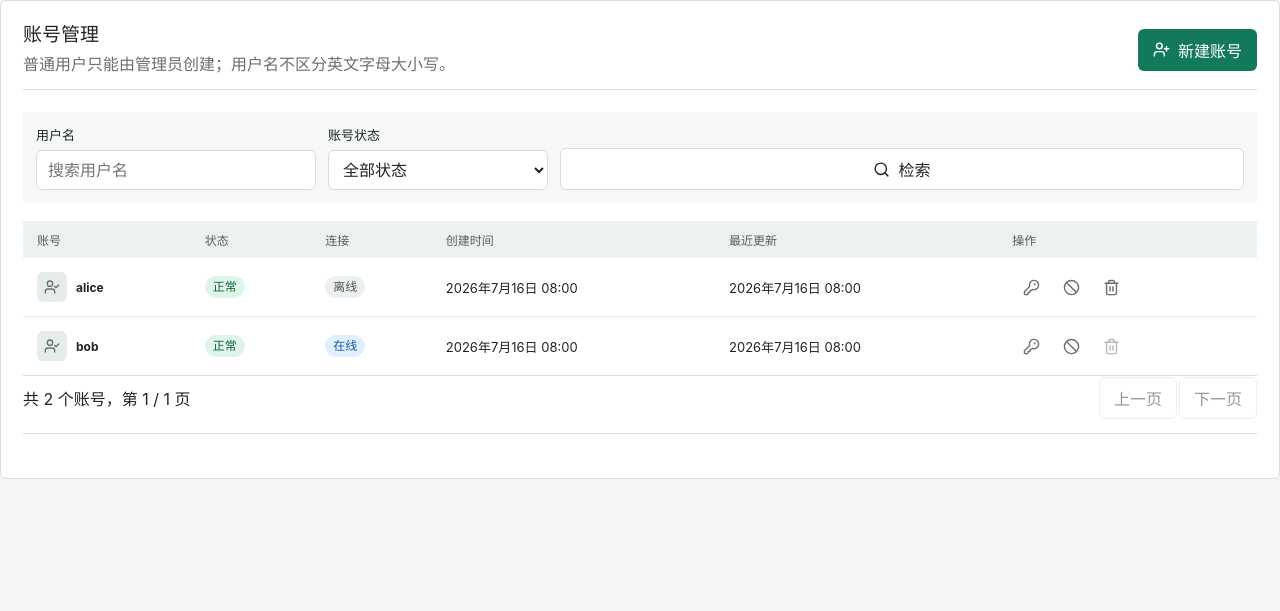
Test: administrator pages › loads accounts, prevents online deletion and creates an account through the API
Check: the text "alice" is shown, box [76,280,104,295]
Check: the button named "账号在线，不能删除" is disabled, box [1092,328,1130,366]
Click the button "新建账号".
click(1198, 50)  # box [1138,29,1257,71]
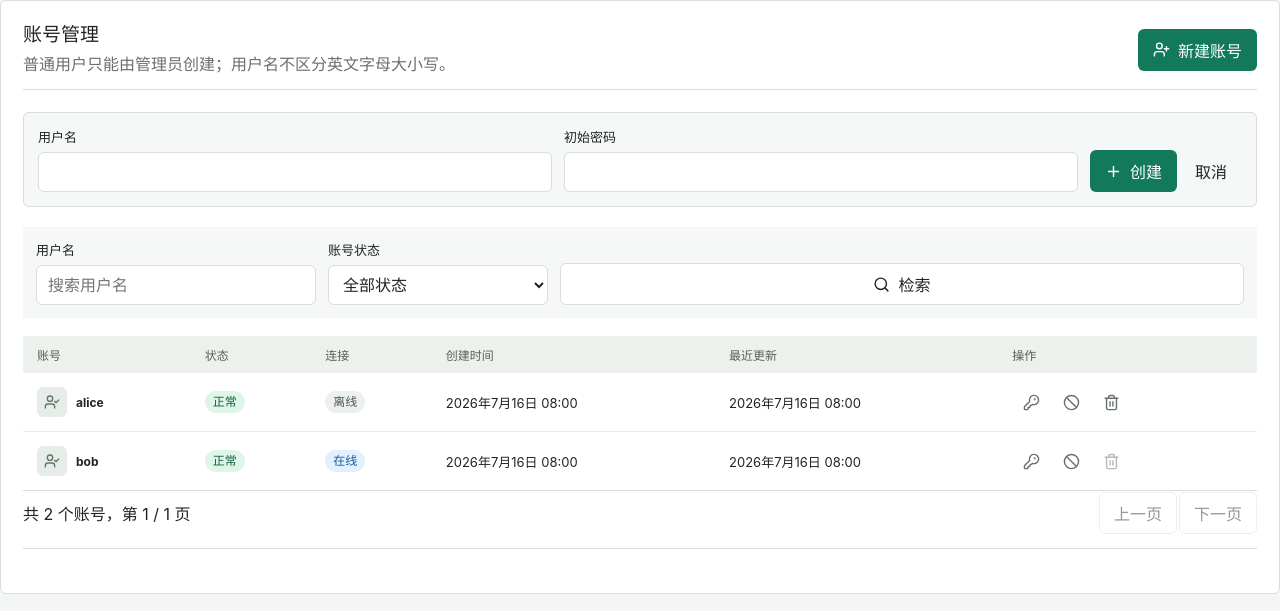
Check: the form labelled "初始密码" is shown, box [23,112,1257,208]
Type "new_user" into the field labelled "用户名" below "初始密码".
click(295, 172); type("new_user")  # box [38,152,552,192]
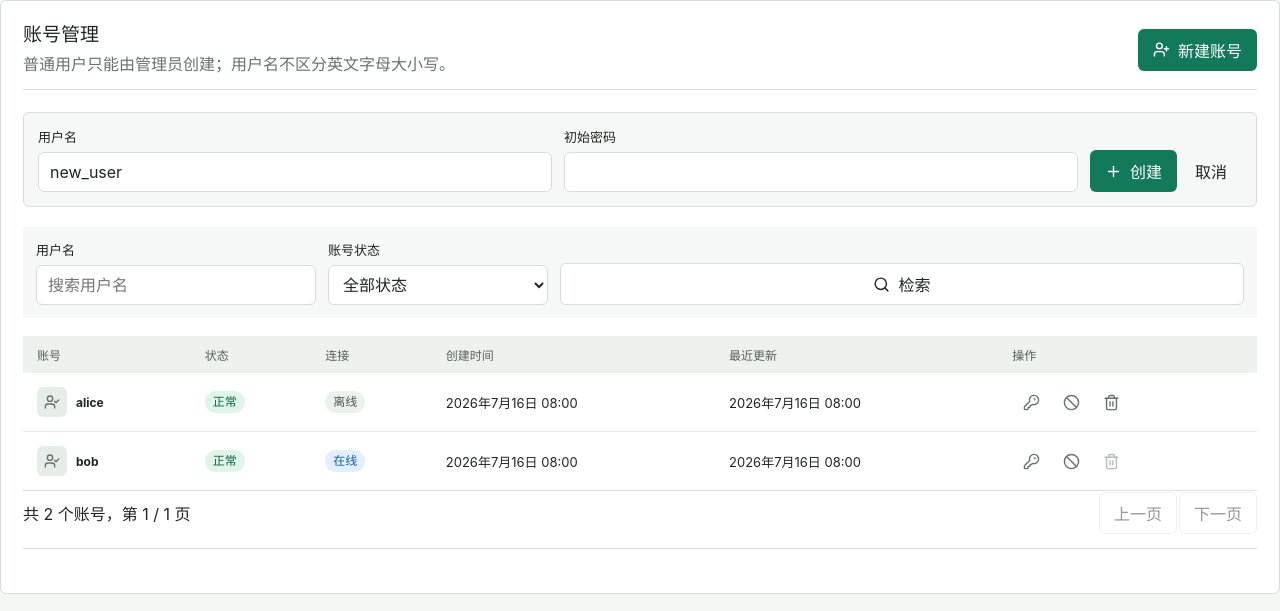
Type "secret12" into the password field labelled "初始密码".
click(821, 172); type("secret12")  # box [564,152,1078,192]
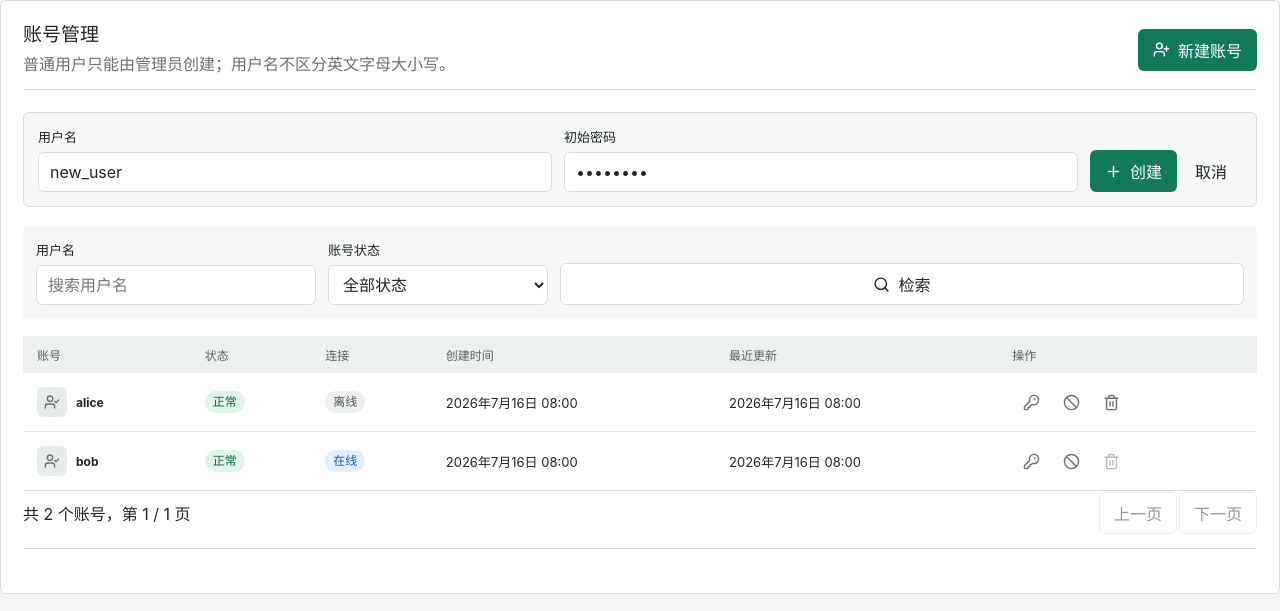
Click the button "创建".
click(1134, 172)  # box [1090,150,1177,192]
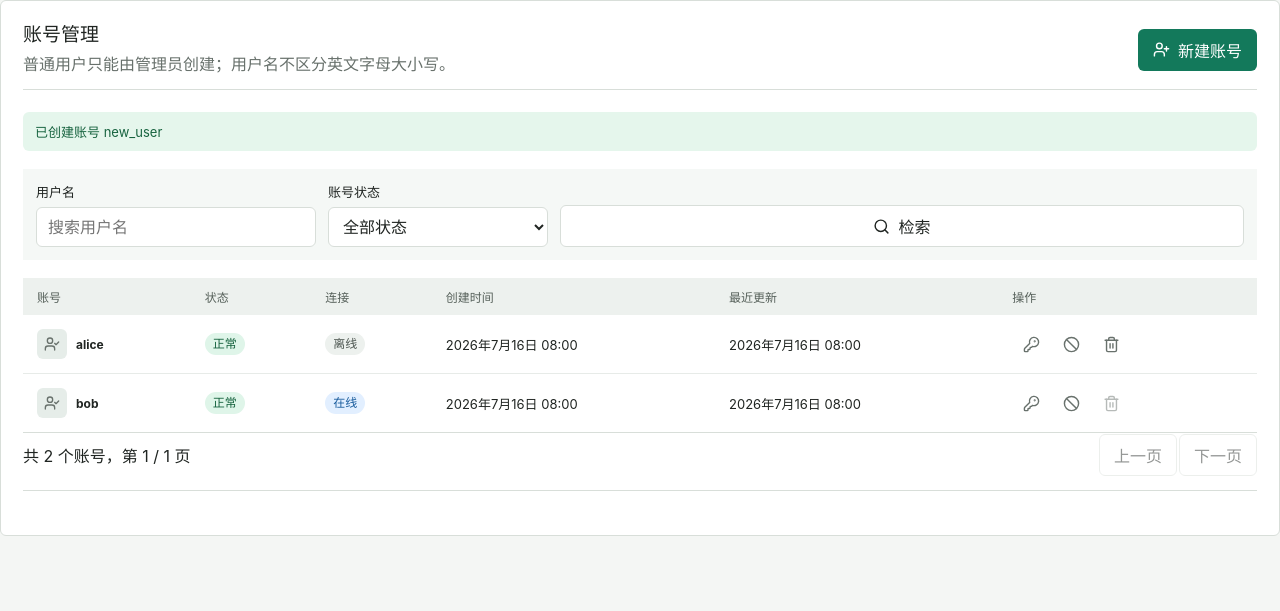
Check: the text "已创建账号 new_user" is shown, box [23,112,1257,152]
